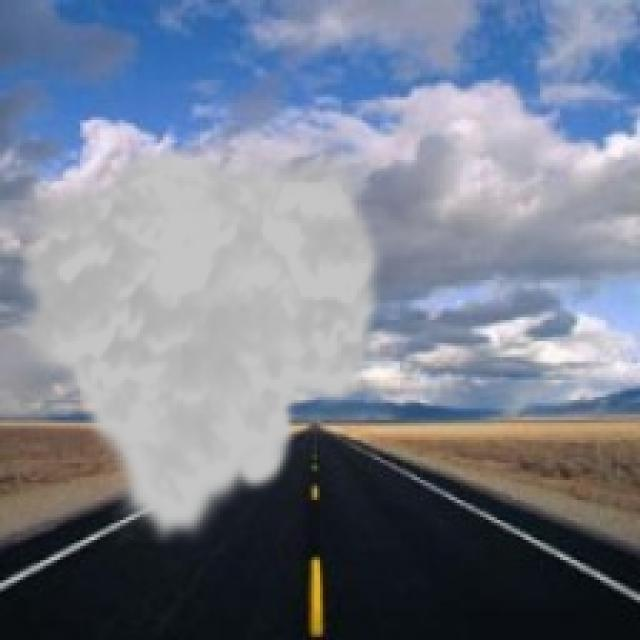smoke: (9, 143, 388, 548)
